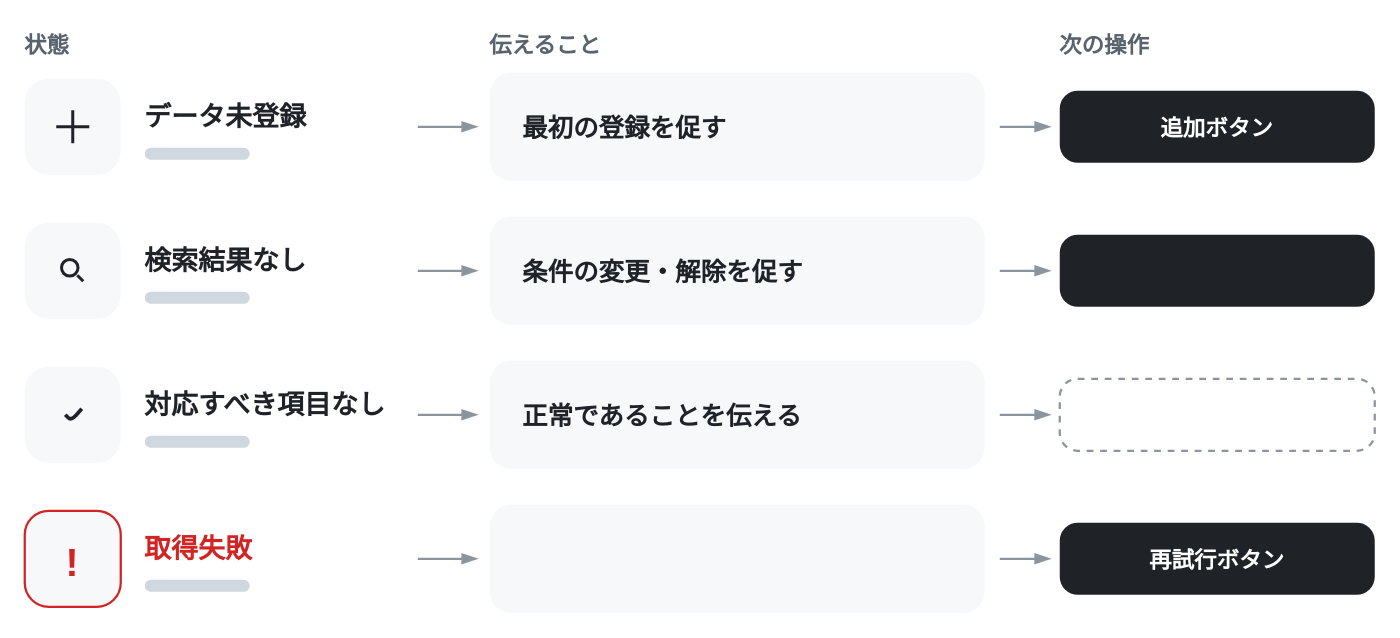
Some shapes in this 1400 by 638 pixel diagram are drawn without their labels. The shapes that lost their labels are listed below. From the top down, each one's centre as x and y in pixels, then its label:
the point at 1216,270: 条件をリセット
the point at 1216,414: 操作なし
the point at 736,558: 原因と再試行を示す
